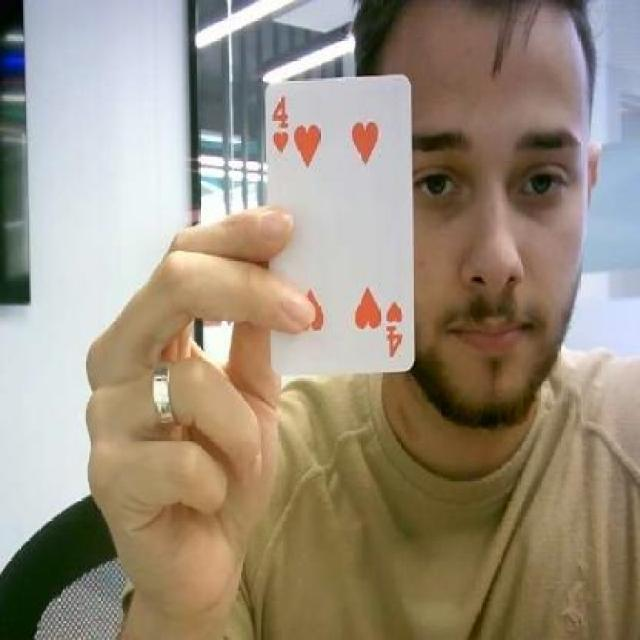4H: (271, 93, 291, 153), (386, 298, 402, 360)
